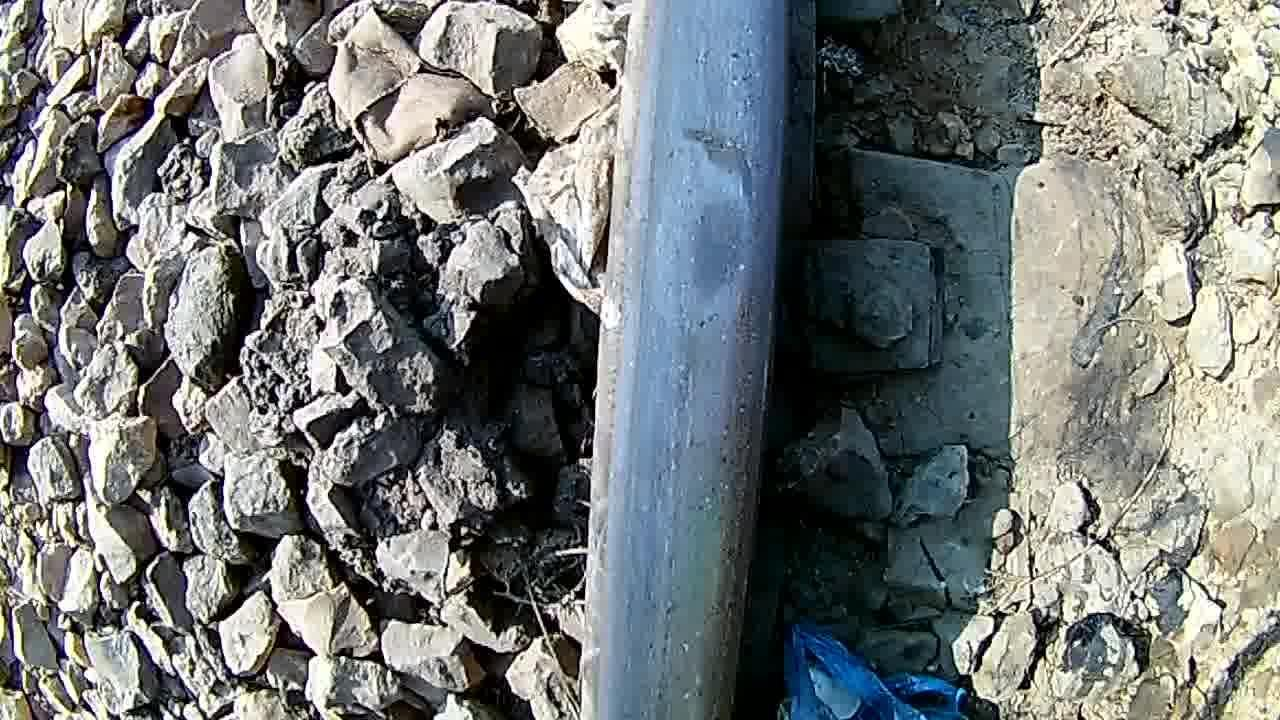crack: (609, 32, 804, 384)
